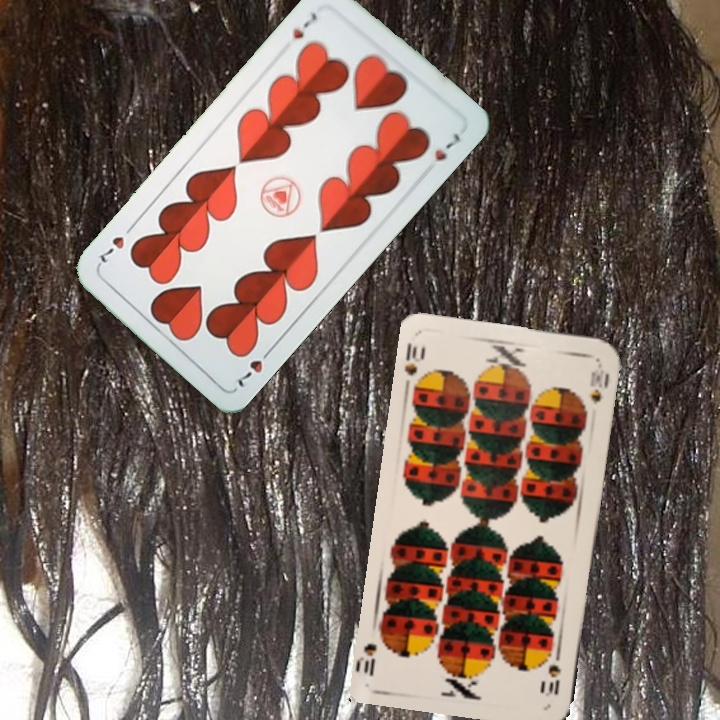H7: (233, 342, 277, 390), (289, 8, 321, 42)
S10: (541, 646, 564, 699), (400, 339, 428, 378)
